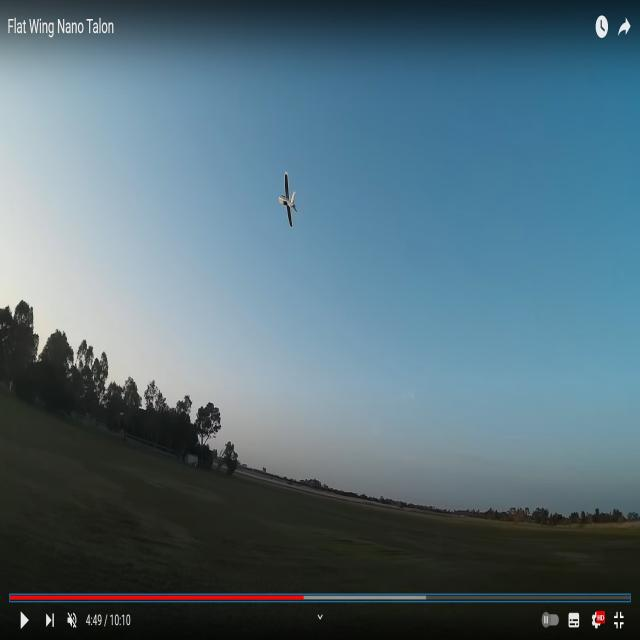iha: (278, 165, 296, 222)
